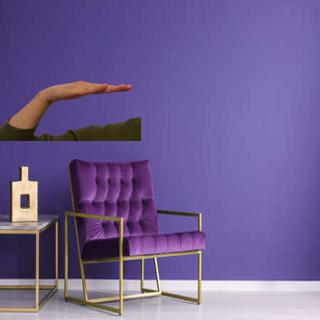WAIT: (38, 76, 134, 105)
